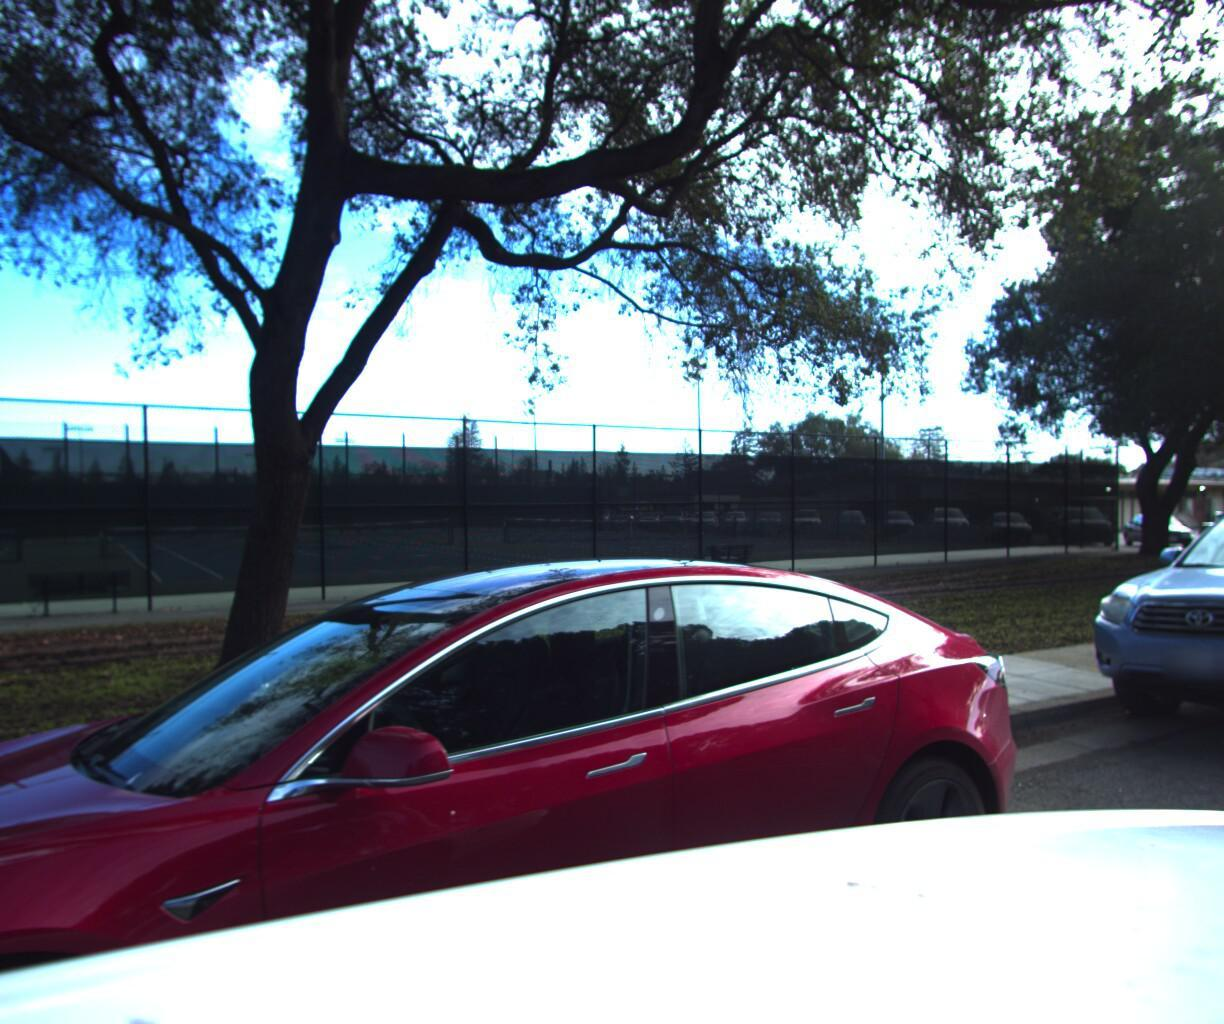car: (0, 526, 1126, 1024), (1060, 458, 1224, 812)
